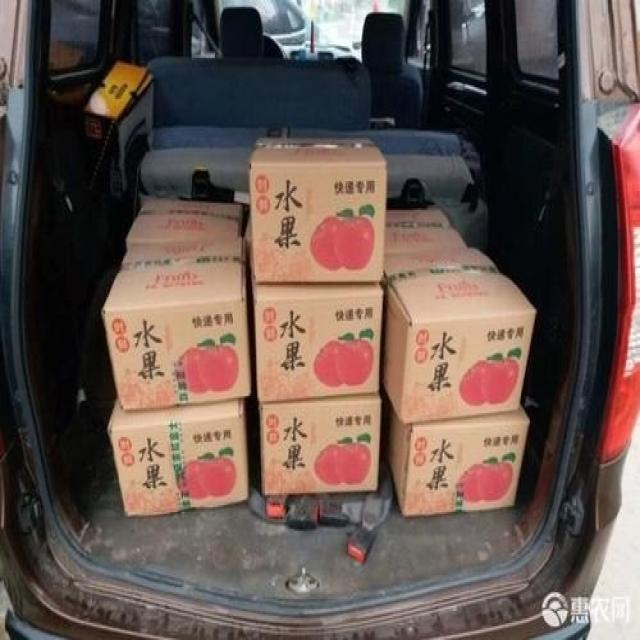box: (381, 249, 536, 427), (102, 239, 251, 411), (247, 138, 388, 283), (108, 394, 248, 517), (387, 406, 531, 517), (252, 283, 384, 403), (260, 394, 381, 495), (125, 200, 243, 247), (385, 207, 468, 253)
